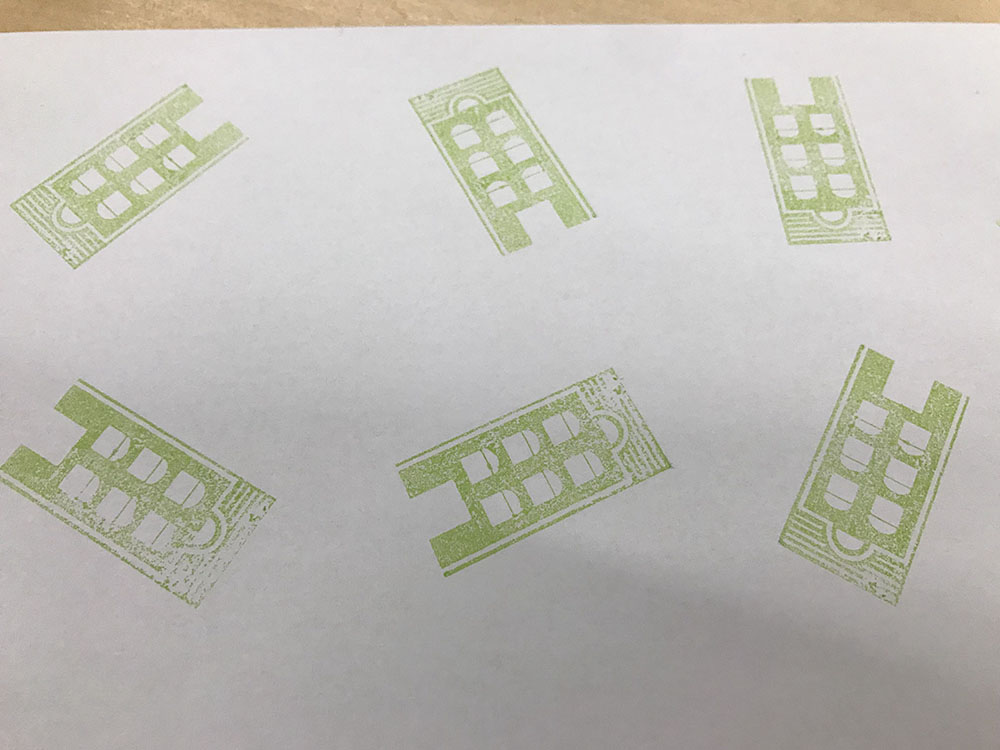build: (1, 366, 308, 625), (375, 367, 701, 582), (1, 56, 280, 304), (768, 319, 973, 635), (380, 61, 624, 271), (727, 55, 908, 265)
